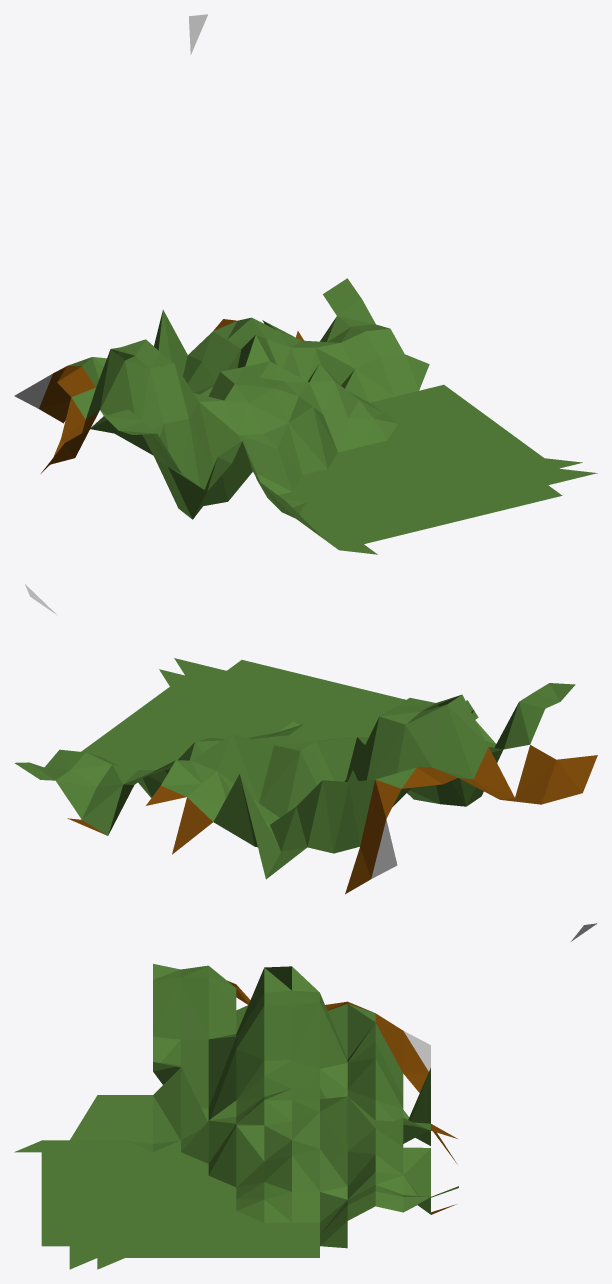
The model's file is TerrainExport3.fbx.
The picture shows the model from 3 angles, top to bottom: view 1: azimuth 30°, elevation 25°; view 2: azimuth 150°, elevation 25°; view 3: azimuth 270°, elevation 25°; orthographic projection. The views are drawn at different scales.
Parts seen in each view (by area): view 1: TerrainVertex1:Mesh; view 2: TerrainVertex1:Mesh; view 3: TerrainVertex1:Mesh.
Boxes of the visible parts, x1,y1,x2,y2 form: TerrainVertex1:Mesh: (14,14,597,554); TerrainVertex1:Mesh: (14,584,597,894); TerrainVertex1:Mesh: (14,923,597,1269).
Size of the model in its own units: 178 by 109 by 197.
